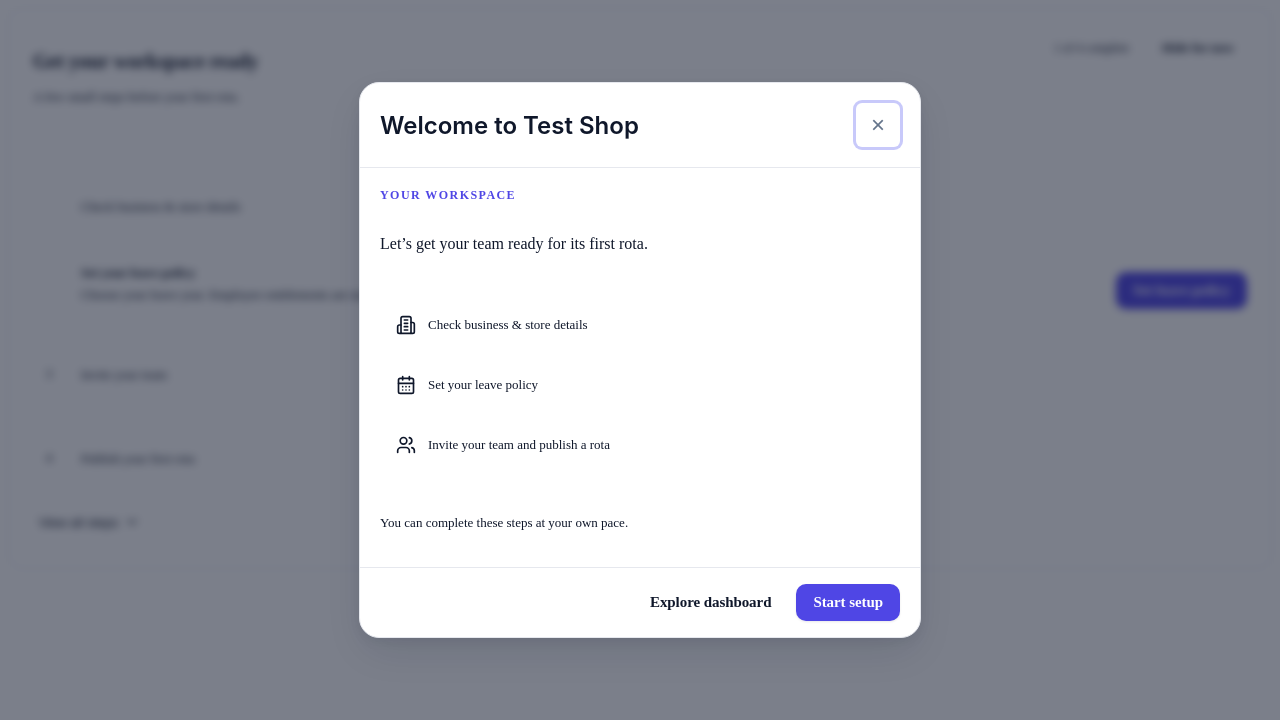
Test case: shows the welcome once, then opens the first incomplete setup task
Expected: the dialog is shown, [359,82,921,638]
Click the button "Start setup" at [848, 602], box [796,584,900,621]
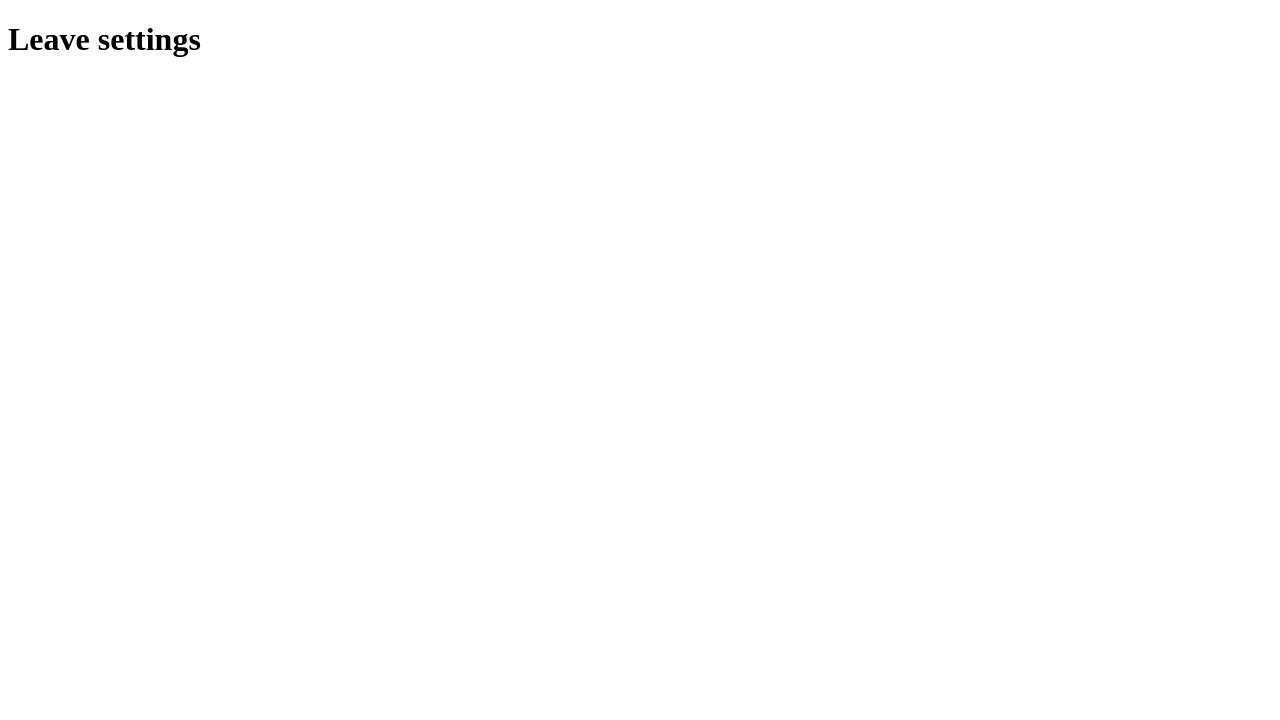
Result: the heading "Leave settings" is shown at [8,21,201,57]
